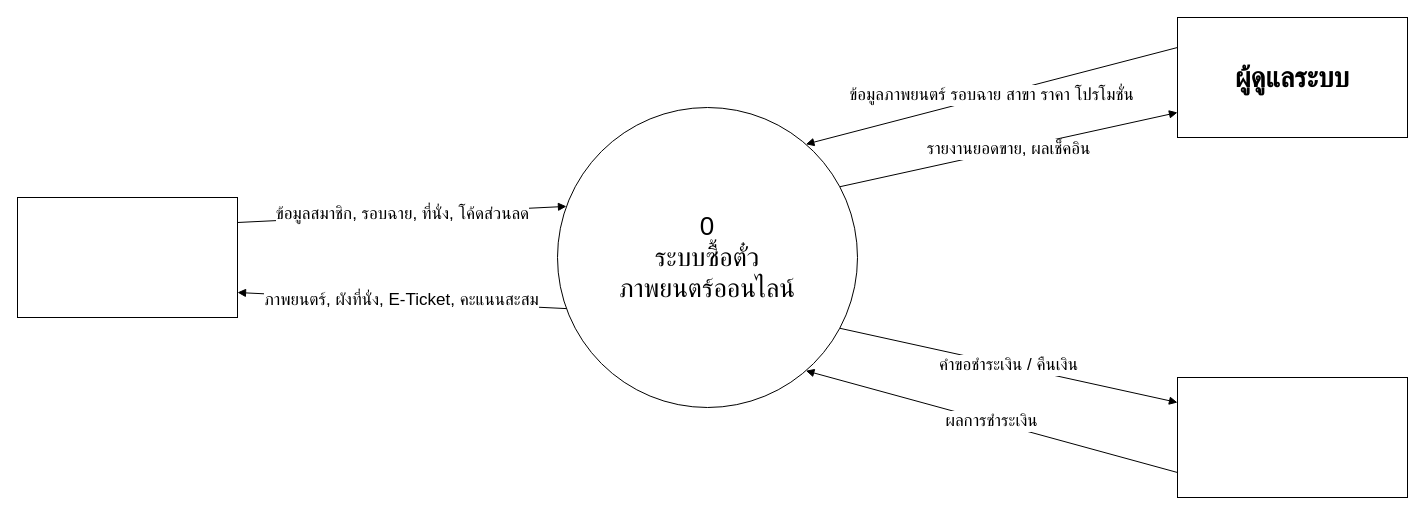
The diagram is 1425 pixels wide and 515 high, and some of its shapes have lost their labels. Each missing label, with the centre of its shape:
Stripe (ระบบชำระเงิน): (x=1292, y=437)
ลูกค้า: (x=127, y=257)
